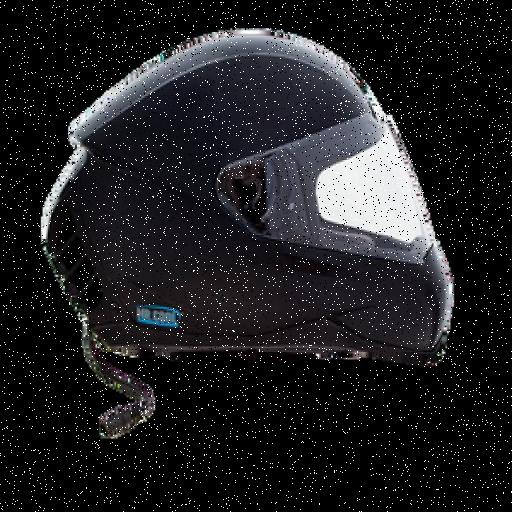Helmet: (42, 31, 452, 436)
